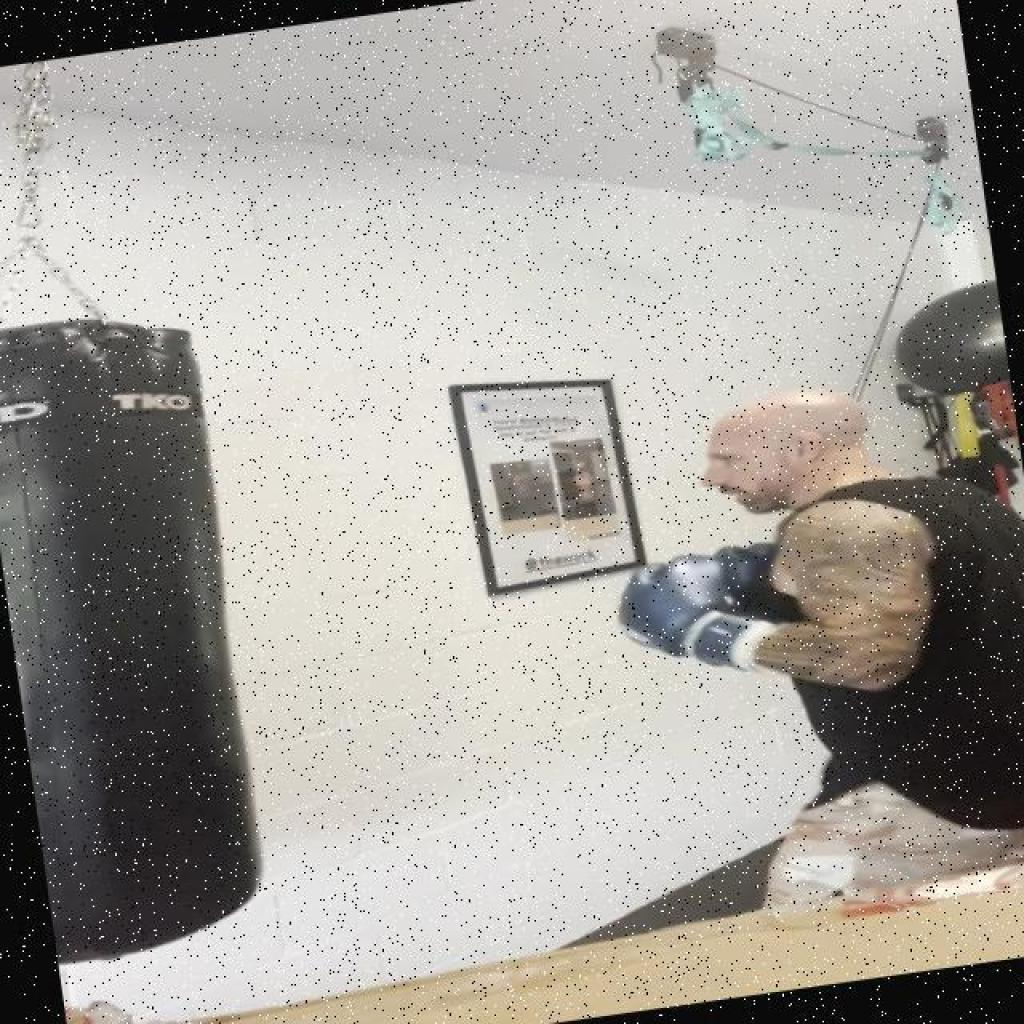bag: (2, 290, 314, 960)
no punch: (523, 346, 1024, 728)
